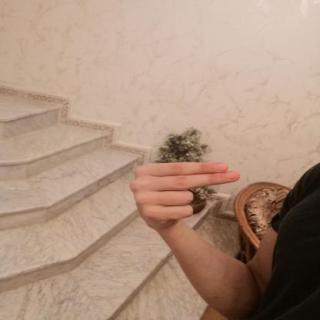AYN: (121, 154, 255, 238)
